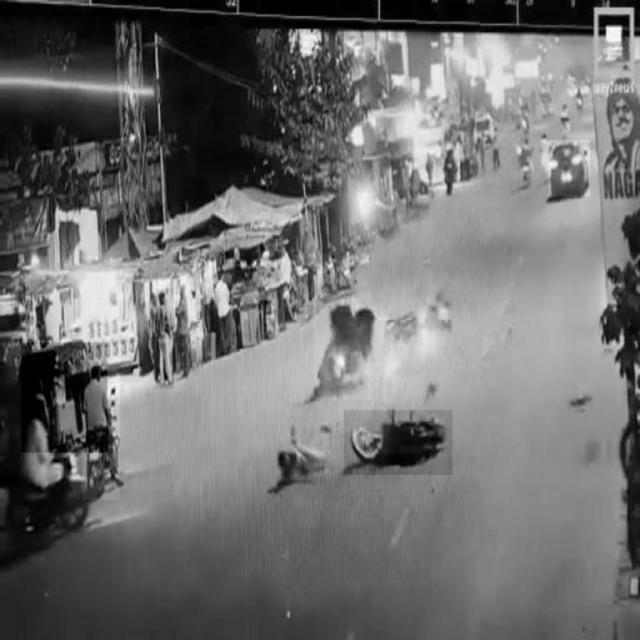person: (157, 289, 174, 389)
vehicle: (22, 343, 108, 453), (344, 411, 452, 475), (315, 293, 372, 401), (82, 366, 120, 500), (549, 140, 590, 196)
